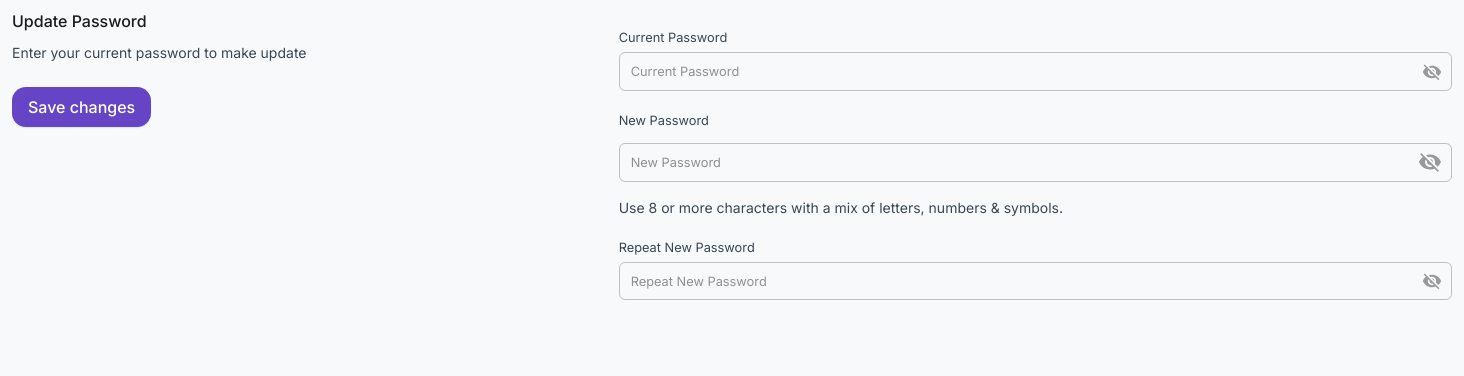
SetNewPassword Component › should show validation errors
Click the button "Save changes" at [82, 107], box [12,87,151,127]
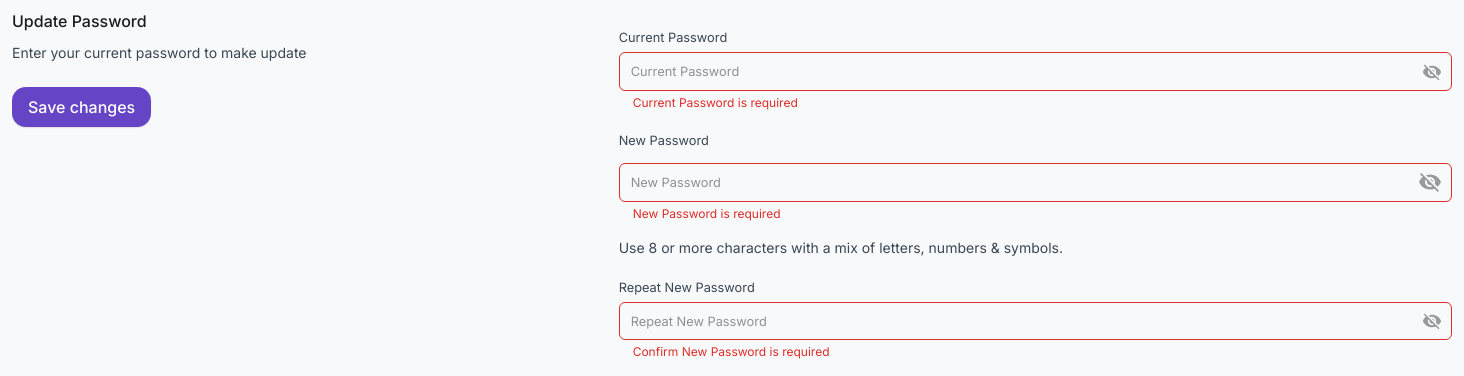
Result: the text "Current Password is required" is shown at [633,95,798,110]
Result: the text "New Password is required" is shown at [633,206,781,221]
Result: the text "Confirm New Password is required" is shown at [633,344,830,359]
